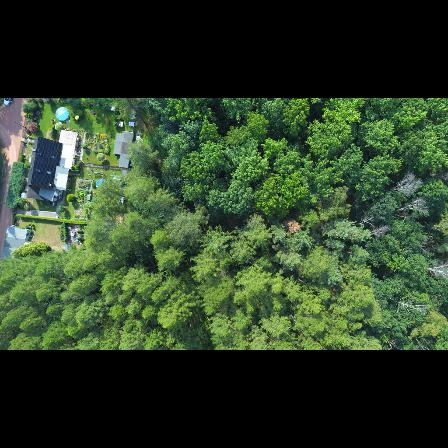Dead: (387, 293, 431, 315), (381, 172, 423, 195), (392, 198, 431, 222), (425, 261, 448, 280)
